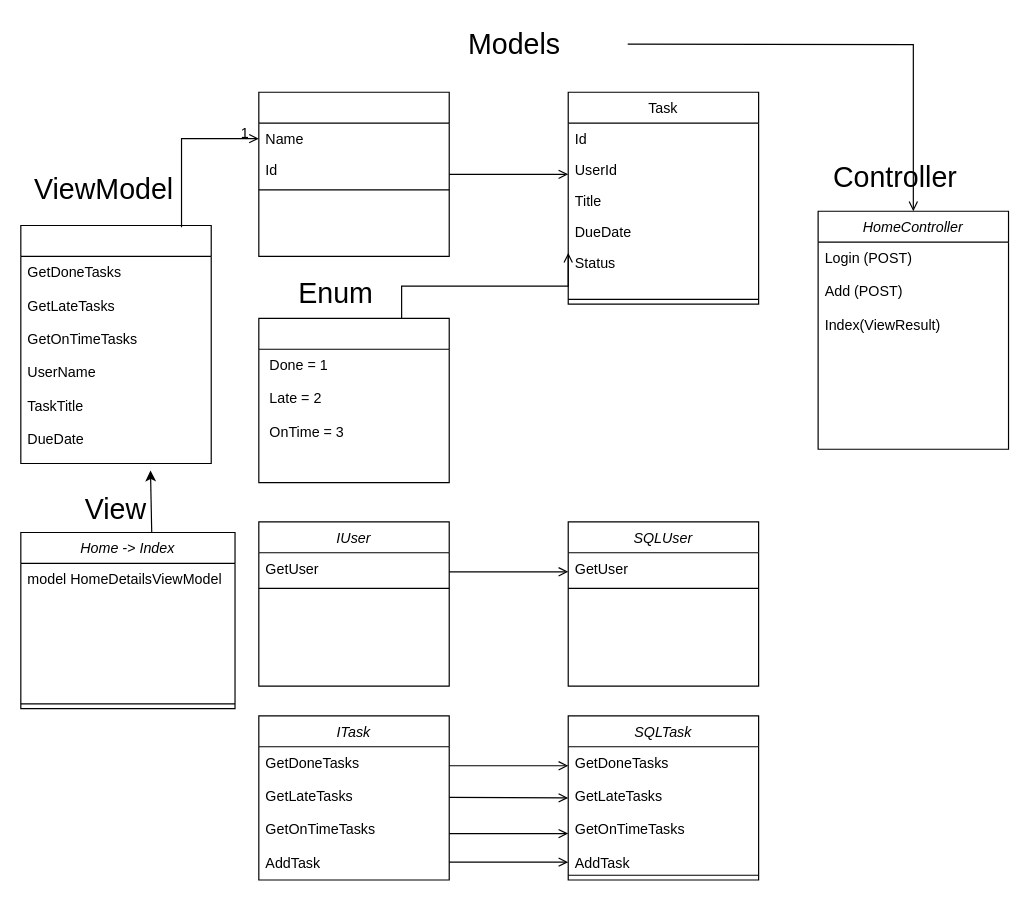
Some shapes in this 1029 by 901 pixel diagram are drawn without their labels. The box of each missing label's shape, as (x1, y1, x2, y2) in pixels:
HomeDetailsViewModel: (20, 224, 211, 464)
TaskStatus: (258, 317, 449, 483)
User: (258, 91, 449, 256)
